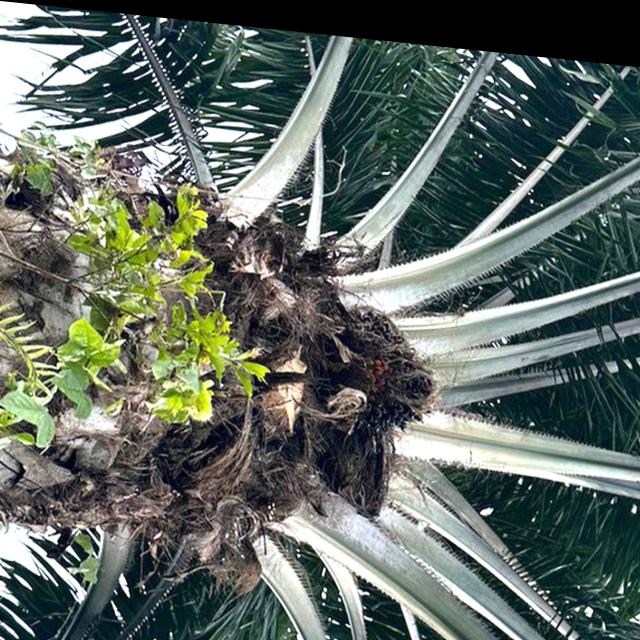almost: (314, 285, 448, 438)
